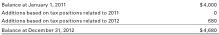table: (0, 0, 215, 32)
table column: (0, 0, 158, 32), (158, 0, 215, 32)
table row: (0, 15, 215, 24), (0, 7, 215, 15), (0, 24, 215, 32), (0, 0, 215, 7)
